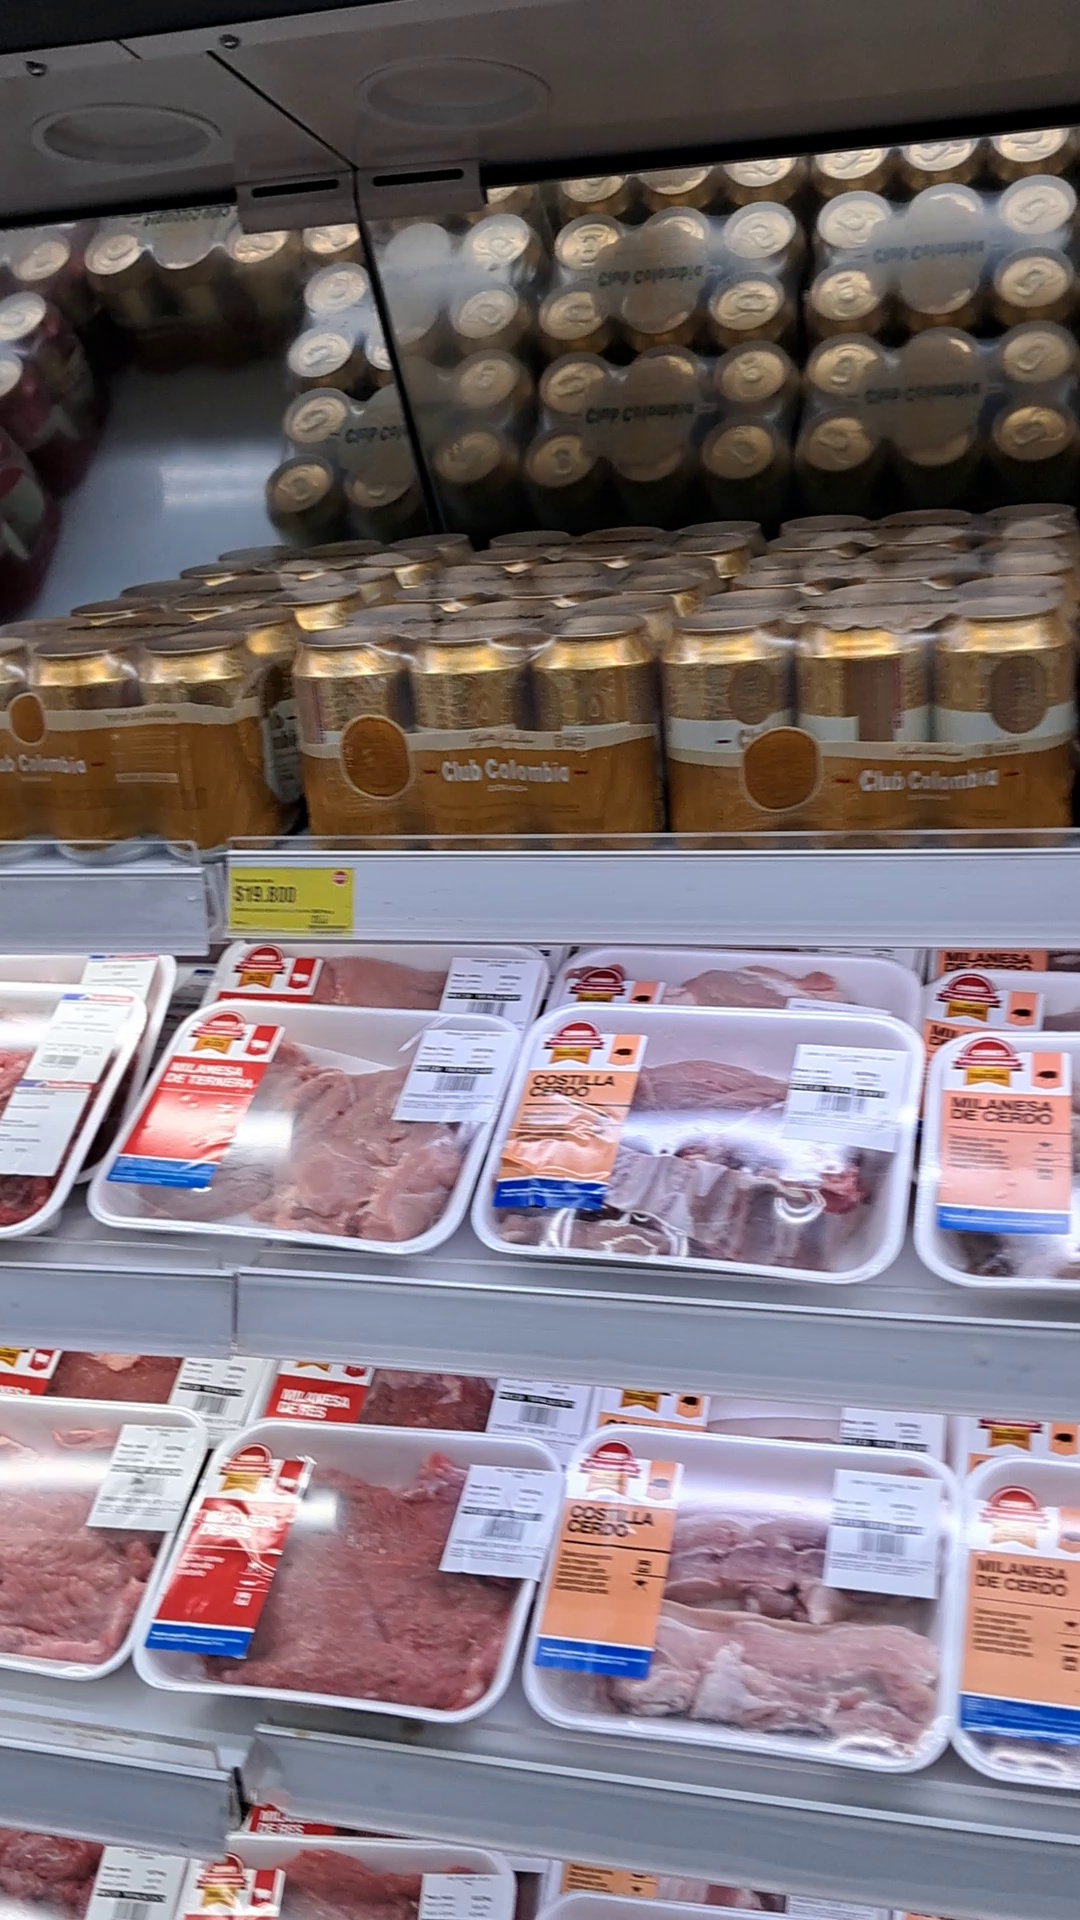Cerveza: (686, 571, 1071, 857), (303, 591, 678, 832), (5, 611, 306, 862), (472, 514, 765, 574), (179, 526, 467, 579), (778, 517, 1071, 566)
